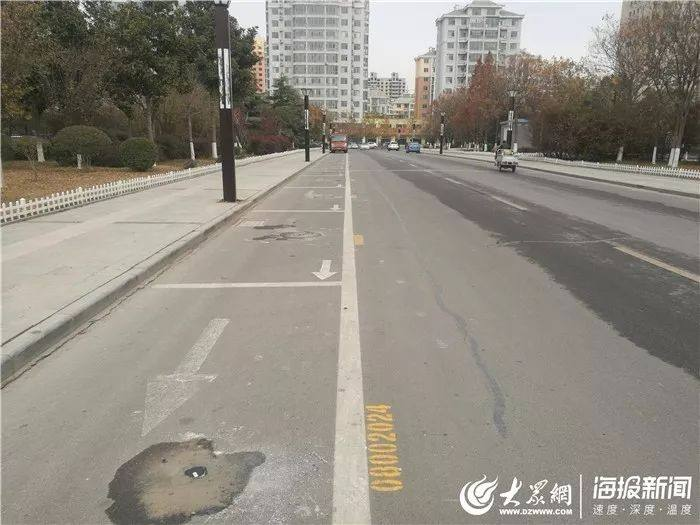slot_nocar: (19, 263, 403, 525), (145, 195, 366, 300), (242, 180, 357, 222), (278, 166, 355, 193), (309, 145, 353, 172)
